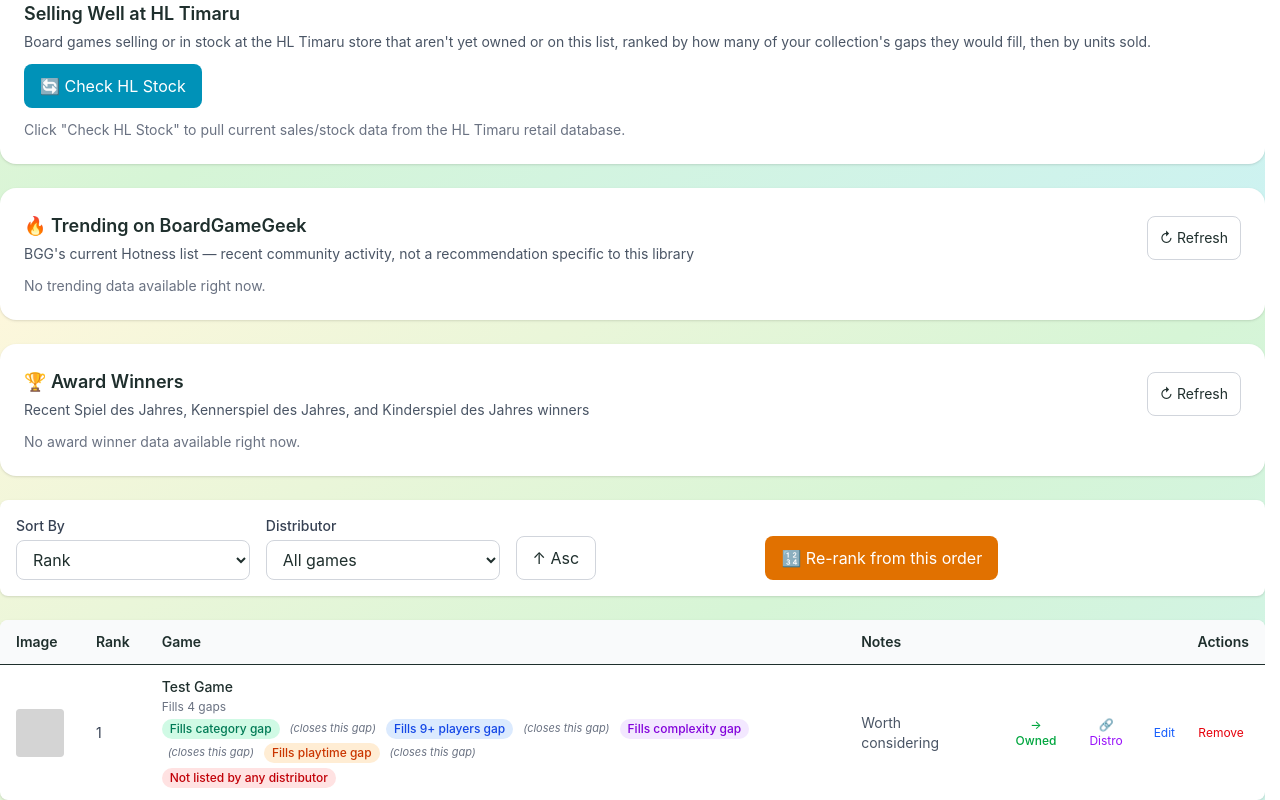
it: BuyListTab › Manual distributor links › shows the API error when linking fails
(page scrolled)
Click the button "🔗 Distro": click(1106, 732) [1074,710,1138,754]
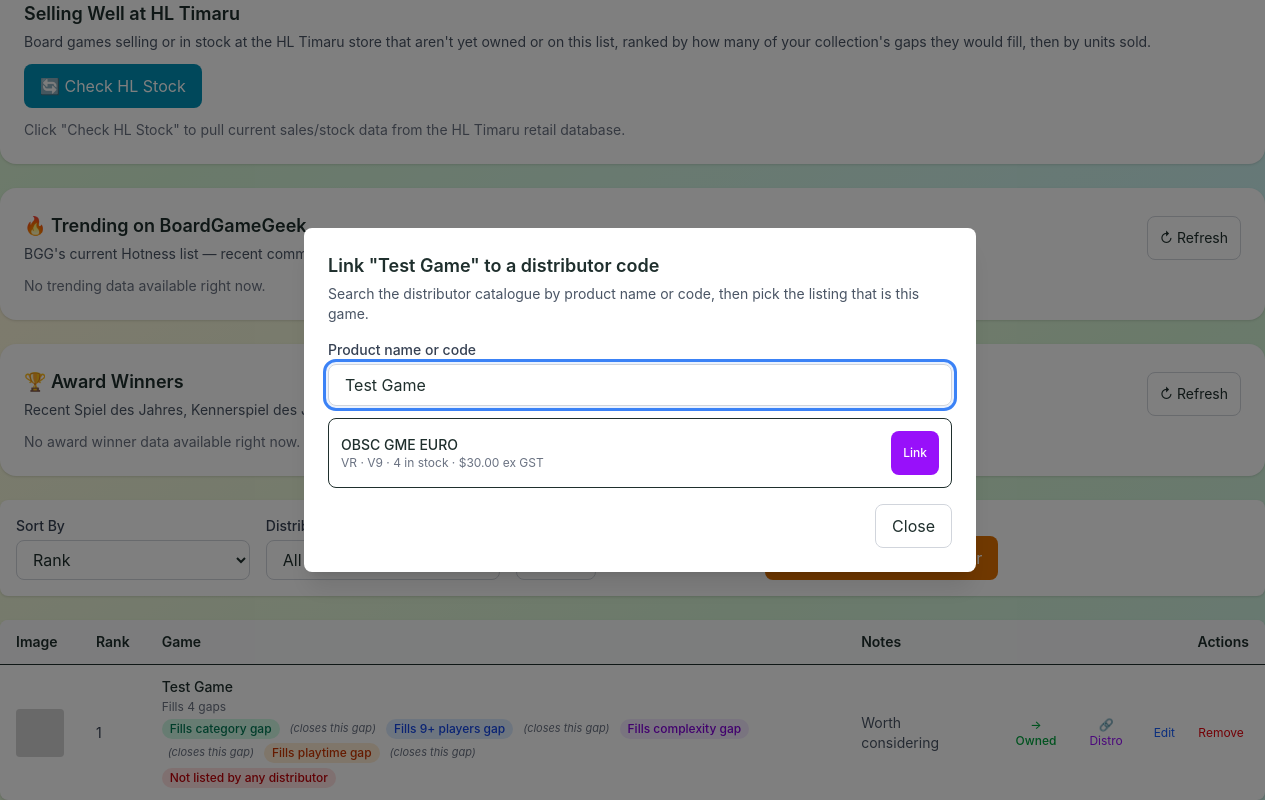
Click the button "Link": click(915, 453) [891,431,939,475]
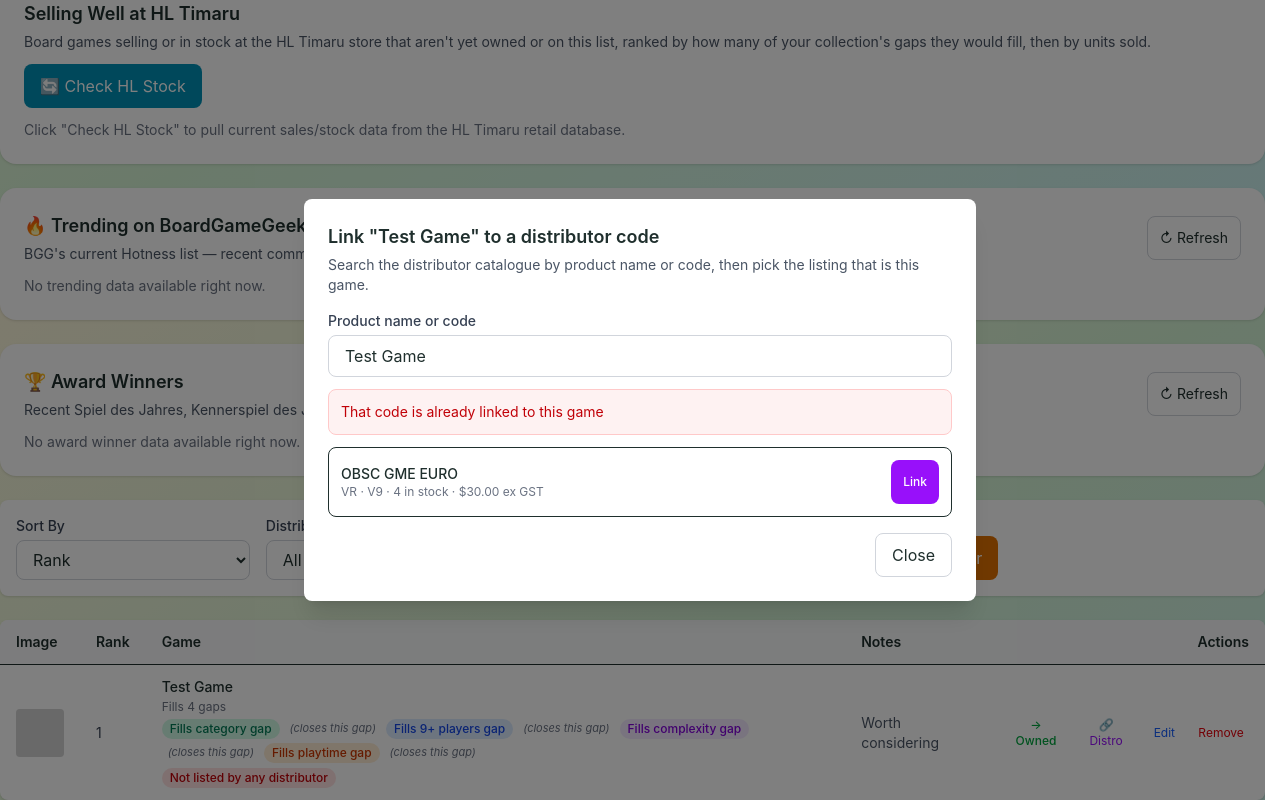
Expected: the dialog is shown, [304,199,976,601]
Expected: the text "That code is already linked to this game" is shown, [328,389,952,435]
